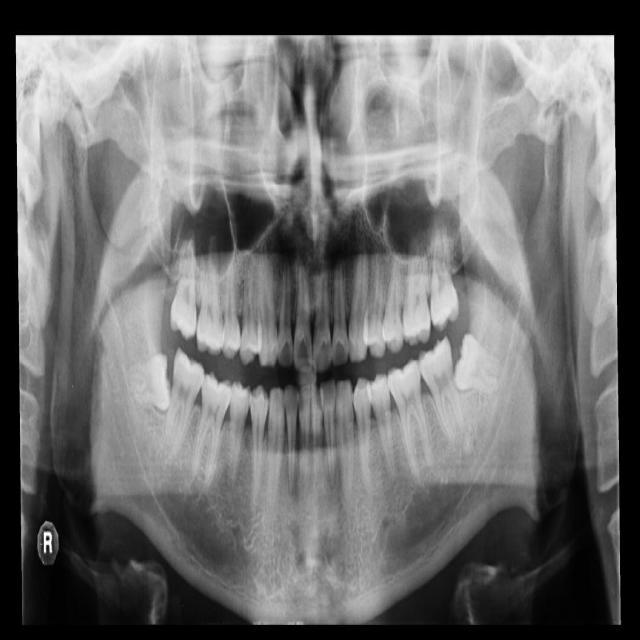73: (621, 619, 631, 625)
BioHorizons Implant: (430, 211, 459, 333)
Biomet 3i Implant: (449, 330, 514, 401)
Blue Sky Bio Implant: (414, 335, 469, 450)
Caries: (170, 228, 197, 342)
Implant: (156, 346, 208, 469)
Keystone Dental Implant: (126, 352, 173, 414)
